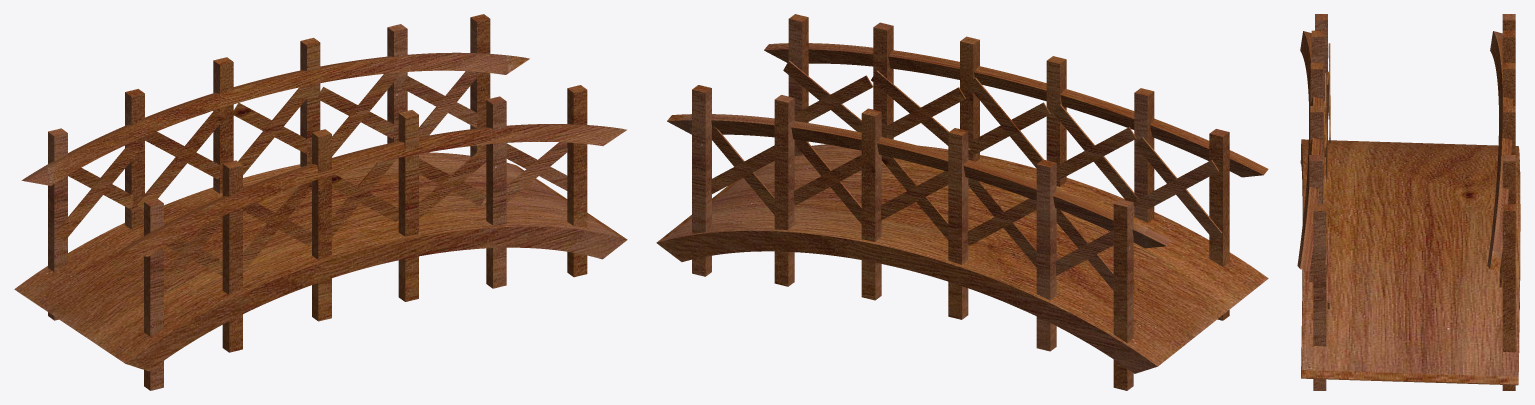
Rendered from bridge.FBX.
The picture shows the model from 3 angles, left to right: view 1: azimuth 30°, elevation 25°; view 2: azimuth 150°, elevation 25°; view 3: azimuth 270°, elevation 25°; orthographic projection. The views are drawn at different scales.
Visible parts, largest first — view 1: Box001, Box035, Box034, Box013, Box014, Box012, Box011, Box015, Box010, Box002, Box005, Box006 (+23 smaller); view 2: Box001, Box034, Box035, Box008, Box007, Box006, Box005, Box002, Box009, Box010, Box011, Box012 (+23 smaller); view 3: Box001, Box035, Box009, Box015, Box034, Box014, Box013, Box008, Box011, Box007, Box006, Box012 (+5 smaller).
Part boxes in pixels (x1=…): Box001: x1=14, y1=152, x2=627, y2=371; Box035: x1=21, y1=52, x2=529, y2=185; Box034: x1=119, y1=124, x2=626, y2=256; Box013: x1=398, y1=110, x2=418, y2=301; Box014: x1=486, y1=96, x2=506, y2=288; Box012: x1=312, y1=129, x2=331, y2=321; Box011: x1=222, y1=160, x2=242, y2=352; Box015: x1=567, y1=85, x2=587, y2=277; Box010: x1=144, y1=198, x2=163, y2=390; Box002: x1=48, y1=128, x2=67, y2=320; Box005: x1=125, y1=89, x2=144, y2=229; Box006: x1=213, y1=57, x2=233, y2=193; Box001: x1=656, y1=144, x2=1268, y2=373; Box034: x1=764, y1=43, x2=1268, y2=177; Box035: x1=667, y1=114, x2=1171, y2=248; Box008: x1=774, y1=95, x2=794, y2=286; Box007: x1=861, y1=108, x2=881, y2=300; Box006: x1=948, y1=128, x2=968, y2=319; Box005: x1=1036, y1=159, x2=1056, y2=351; Box002: x1=1113, y1=199, x2=1133, y2=390; Box009: x1=692, y1=85, x2=711, y2=276; Box010: x1=1209, y1=129, x2=1229, y2=320; Box011: x1=1134, y1=88, x2=1154, y2=222; Box012: x1=1046, y1=56, x2=1066, y2=186; Box001: x1=1300, y1=139, x2=1520, y2=385; Box035: x1=1487, y1=31, x2=1512, y2=271; Box009: x1=1502, y1=204, x2=1515, y2=390; Box015: x1=1313, y1=204, x2=1326, y2=390; Box034: x1=1297, y1=31, x2=1322, y2=271; Box014: x1=1309, y1=155, x2=1322, y2=282; Box013: x1=1310, y1=106, x2=1323, y2=204; Box008: x1=1502, y1=155, x2=1515, y2=204; Box011: x1=1311, y1=30, x2=1324, y2=157; Box007: x1=1502, y1=106, x2=1515, y2=154; Box006: x1=1502, y1=63, x2=1515, y2=105; Box012: x1=1310, y1=63, x2=1323, y2=105.
Bounding box in the file's own units: 185 × 75.54 × 72.67.
